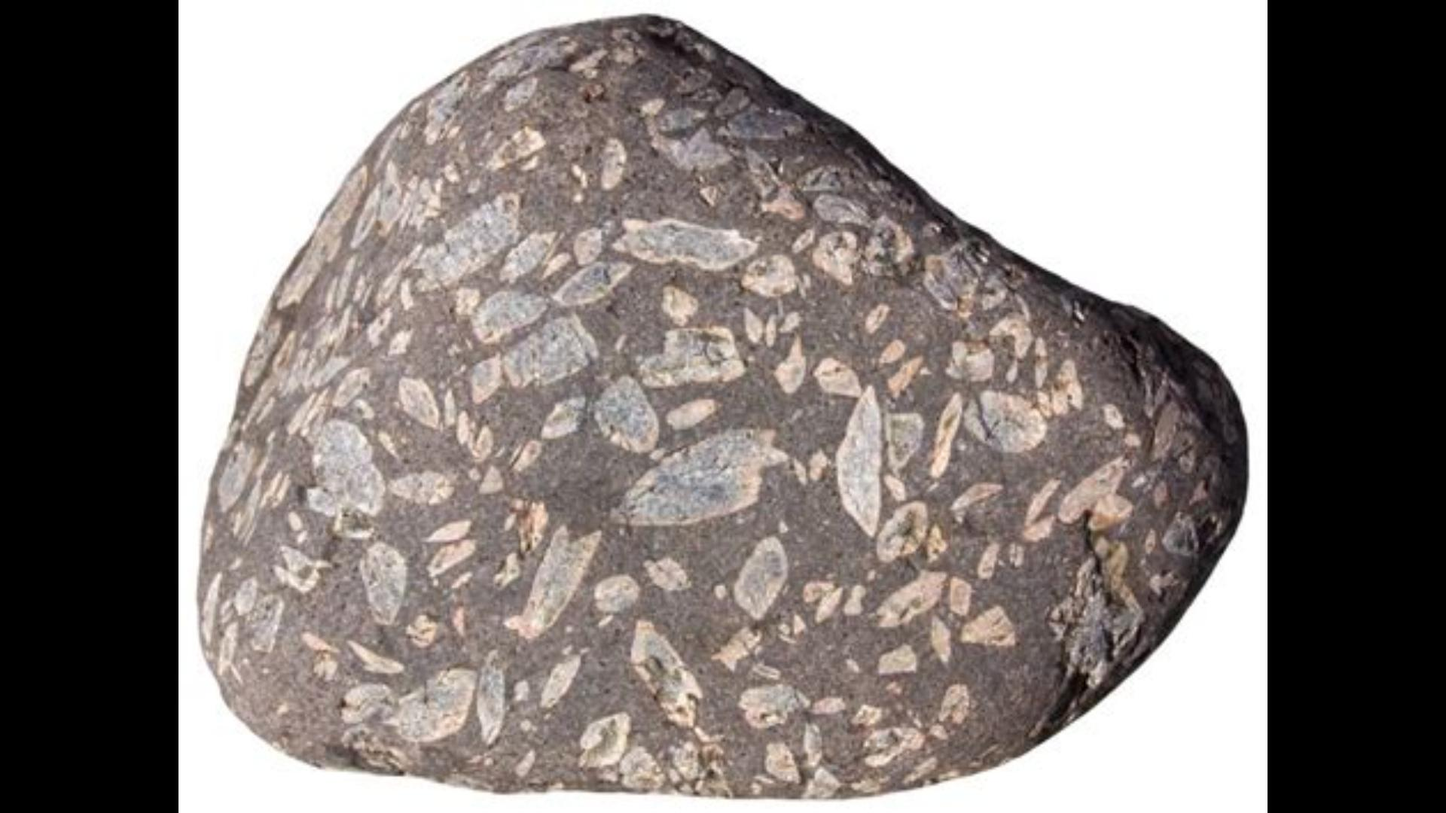rock: (204, 28, 1242, 788)
